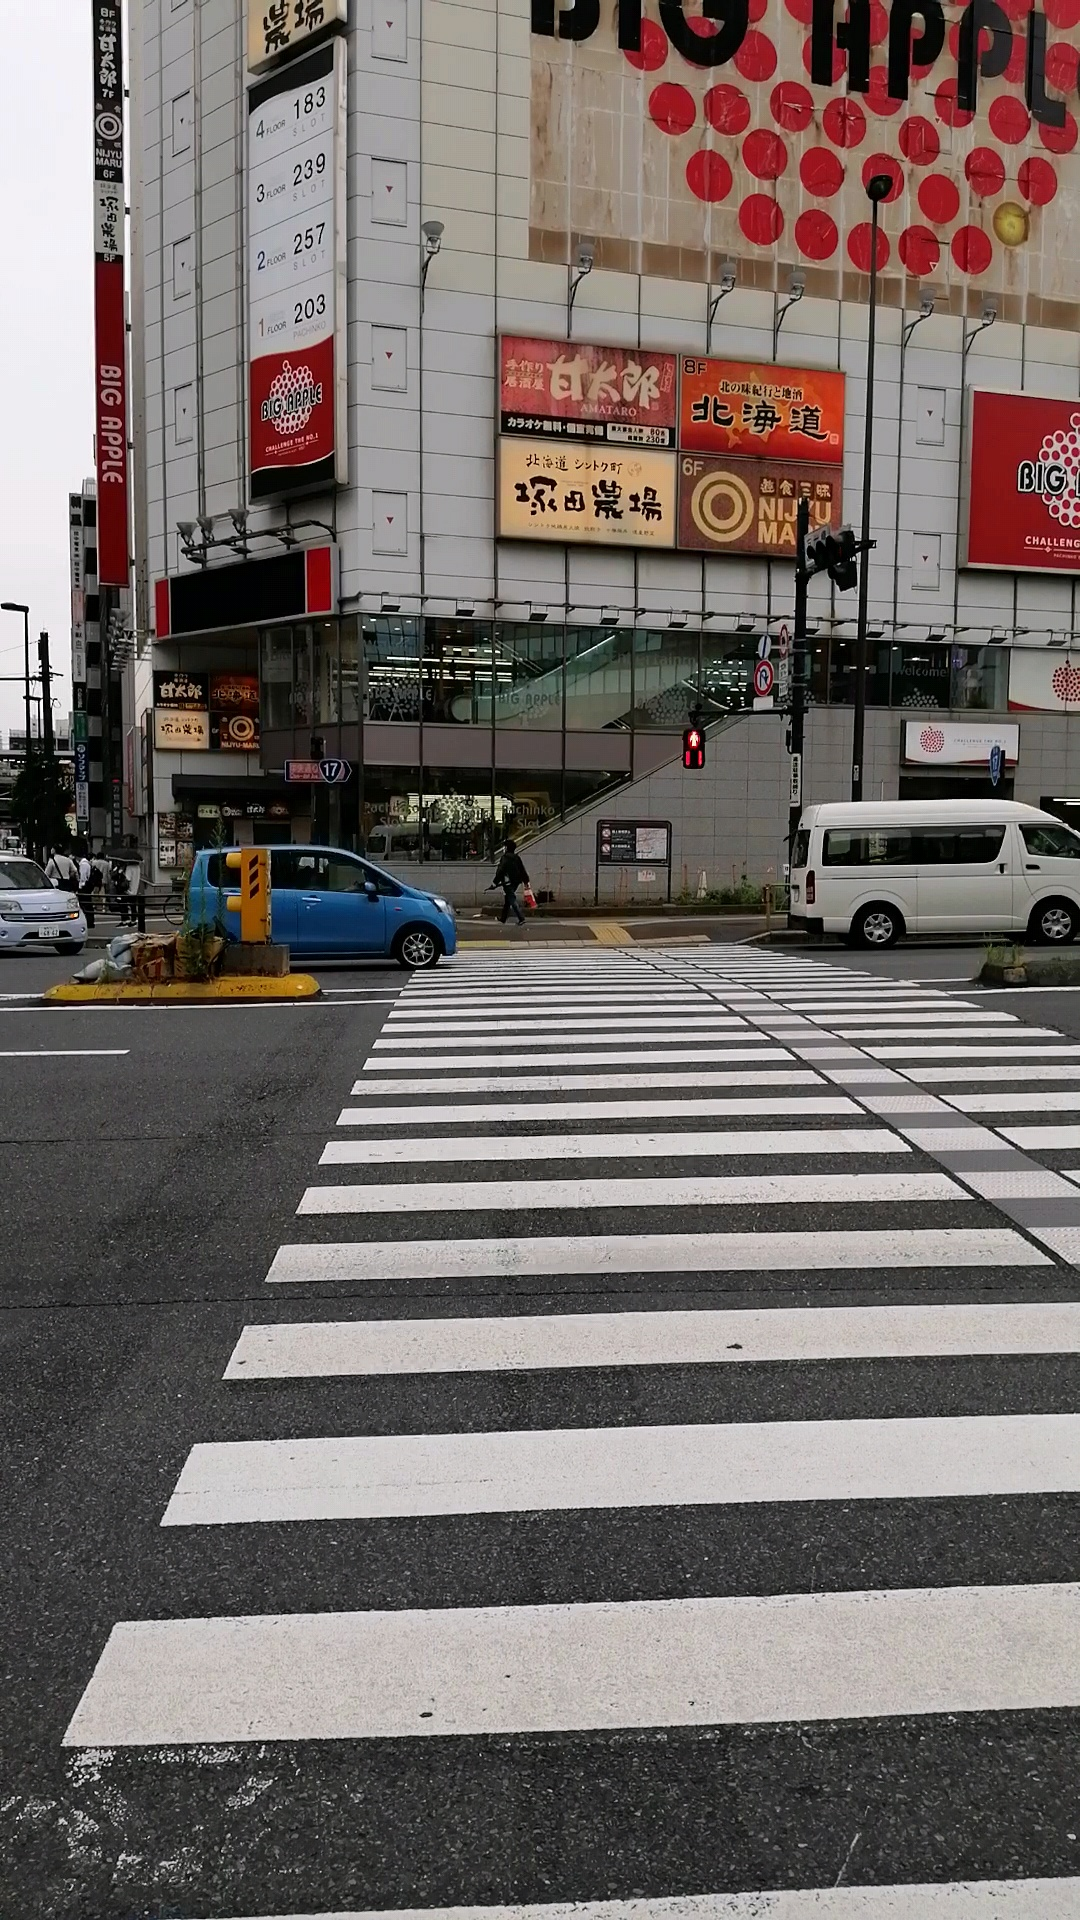red: (682, 728, 705, 769)
